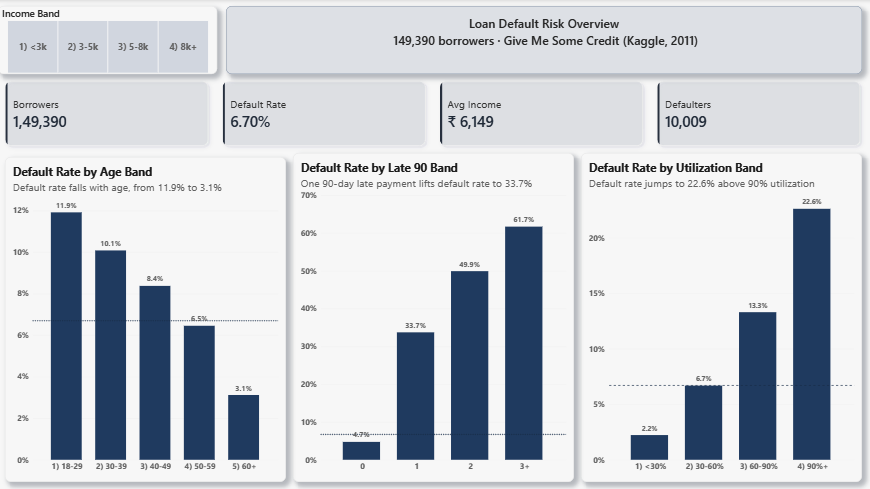

The dashboard page shown, as its layout file describes it:
{"tool":"powerbi","page":{"name":"Overview","canvas":[1920,1080],"ordinal":0},"visuals":[{"type":"cardVisual","fields":{"Data":["loans_clean.Borrowers","loans_clean.Default Rate","loans_clean.Avg Income","loans_clean.Defaulters"]},"box":[0,165.3,1919.8,174.1],"z":0},{"type":"clusteredColumnChart","fields":{"Category":["loans_clean.Age Band"],"Y":["loans_clean.Default Rate"]},"box":[15.4,348.2,619.3,716.3],"z":4},{"type":"textbox","box":[502.5,15.4,1401.8,149.9],"z":5},{"type":"clusteredColumnChart","fields":{"Category":["loans_clean.Utilization Band"],"Y":["loans_clean.Default Rate"]},"box":[1285,339.4,619.3,725.1],"z":6},{"type":"clusteredColumnChart","fields":{"Category":["loans_clean.Late 90 Band"],"Y":["loans_clean.Default Rate"]},"box":[650.2,339.4,619.3,725.1],"z":7},{"type":"slicer","fields":{"Values":["loans_clean.Income Band"]},"box":[0,15.4,482.7,149.9],"z":8}]}

Visuals, with their boxes in screenshot pixels (x1, y1, x2, y2), scaled from the page's 1920x1080 canvas onto the 870x489 screenshot:
cardVisual - loans_clean.Borrowers x loans_clean.Default Rate: detection(0, 75, 869, 154)
clusteredColumnChart - loans_clean.Age Band x loans_clean.Default Rate: detection(7, 158, 288, 482)
textbox: detection(228, 7, 863, 75)
clusteredColumnChart - loans_clean.Utilization Band x loans_clean.Default Rate: detection(582, 154, 863, 482)
clusteredColumnChart - loans_clean.Late 90 Band x loans_clean.Default Rate: detection(295, 154, 575, 482)
slicer - loans_clean.Income Band: detection(0, 7, 219, 75)
